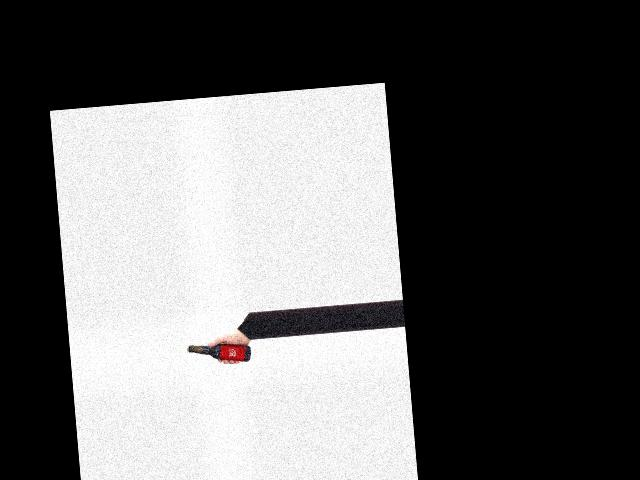beer: (186, 339, 252, 367)
